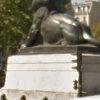Statue: (19, 1, 92, 58)
